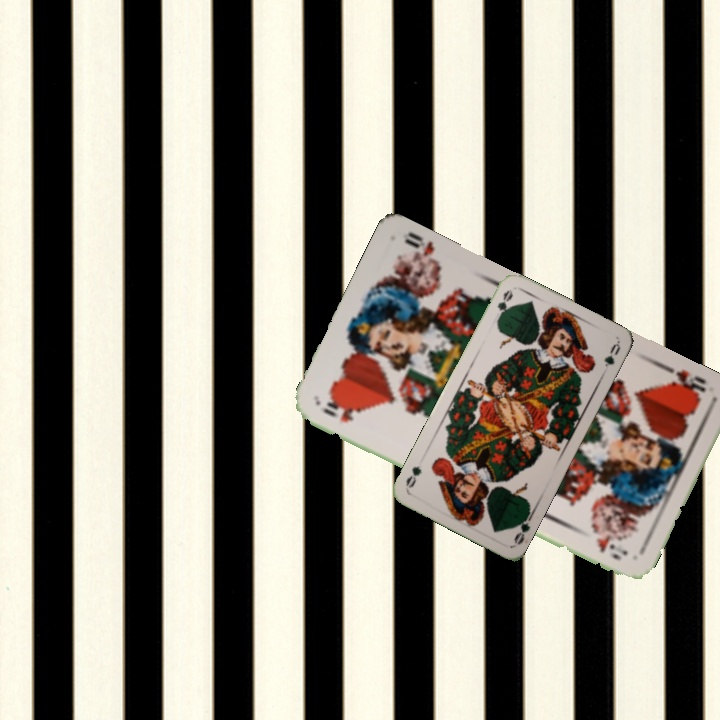GO: (510, 507, 536, 547), (493, 285, 516, 323)
HO: (664, 365, 709, 402), (319, 395, 363, 425)
